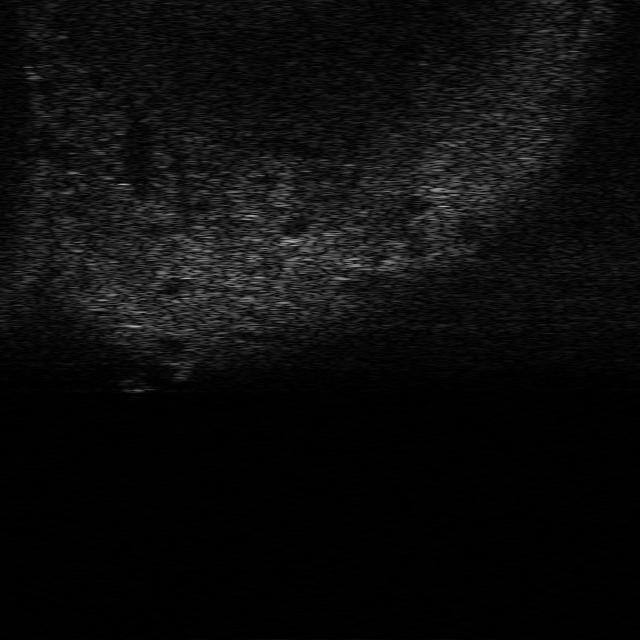ball: (118, 377, 148, 394)
cylinder: (172, 358, 196, 382)
